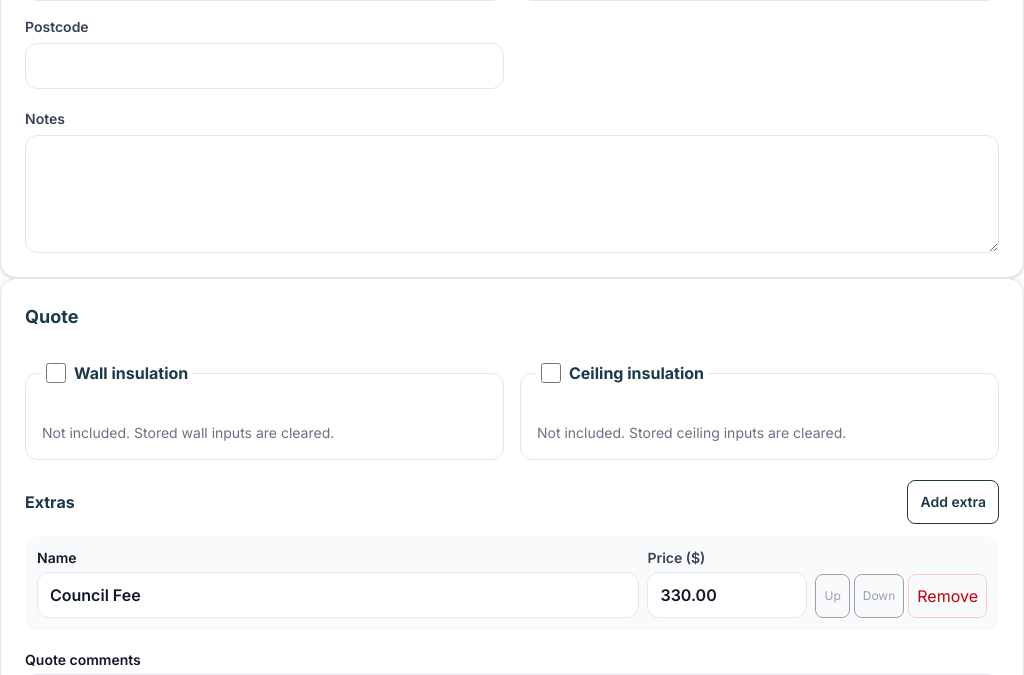
Test: partner draft browser recovery › prefills company rates, allows overrides, and clears products without confirmation
(page scrolled)
Click the checkbox labelled "Wall insulation": click(56, 373) [46,363,66,383]
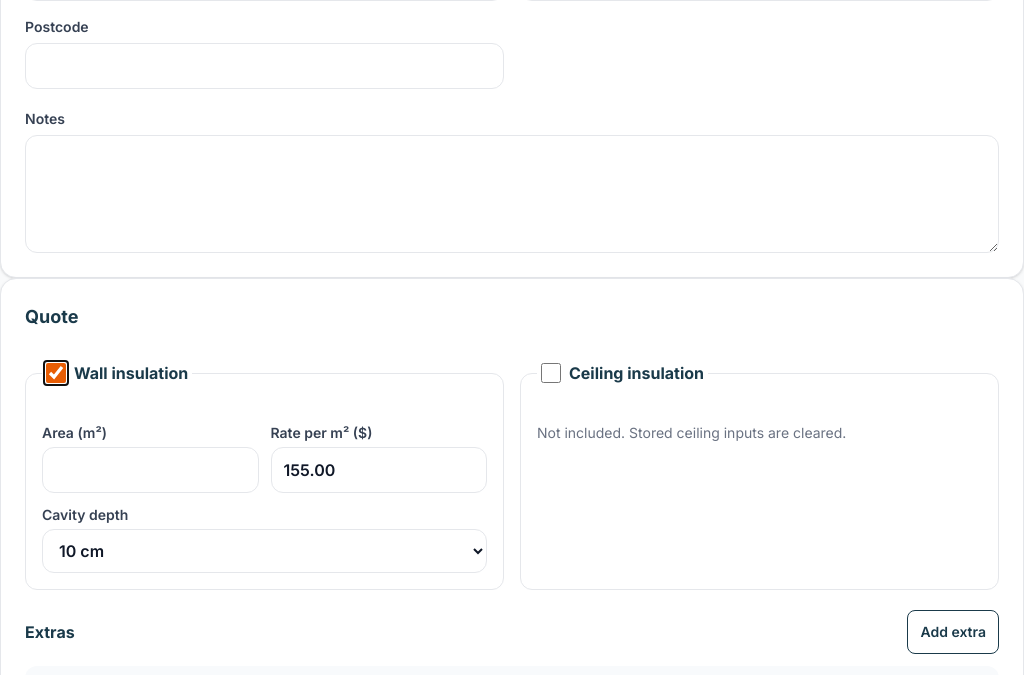
In the number field labelled "Area (m²)": (150, 470) [42,447,258,493], type "10"
Select "10 cm" in the dropdown labelled "Cavity depth": (264, 551) [42,529,487,573]
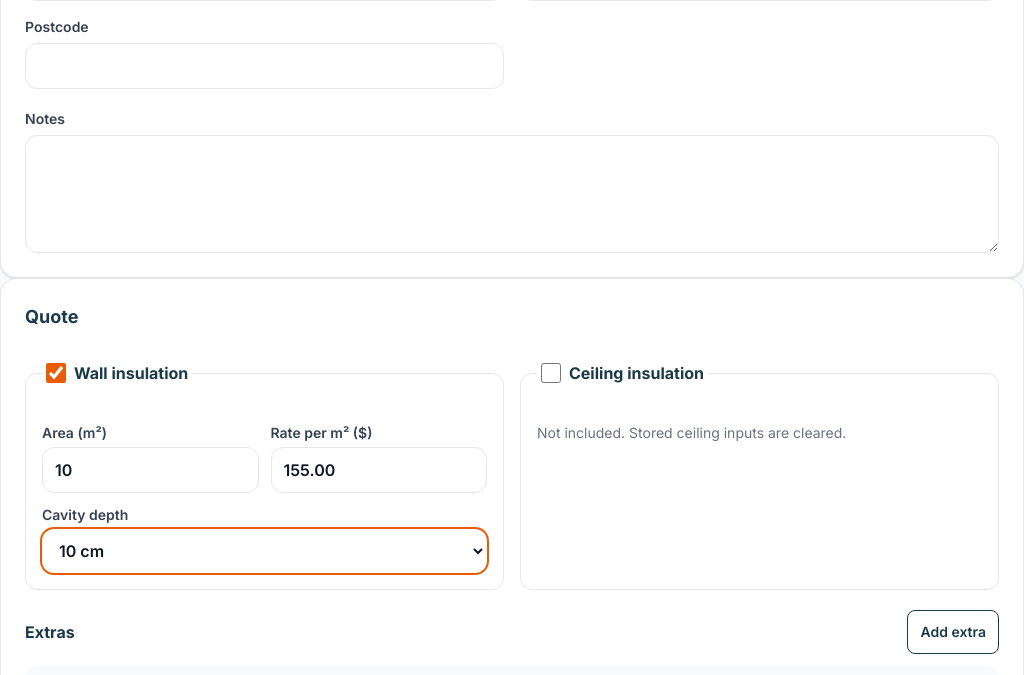
Now the field labelled "Rate per m² ($)" holds "155.00"
Replace the text in the field labelled "Rate per m² ($)" with "160": (379, 470) [270,447,487,493]
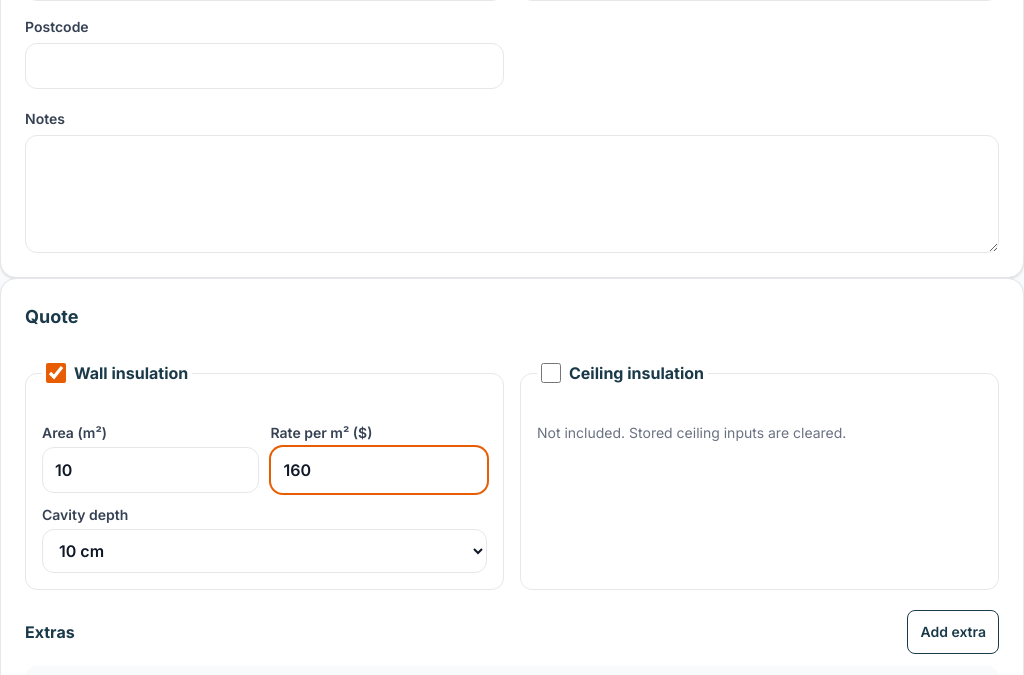
Click the number field labelled "Area (m²)": click(150, 470) [42,447,258,493]
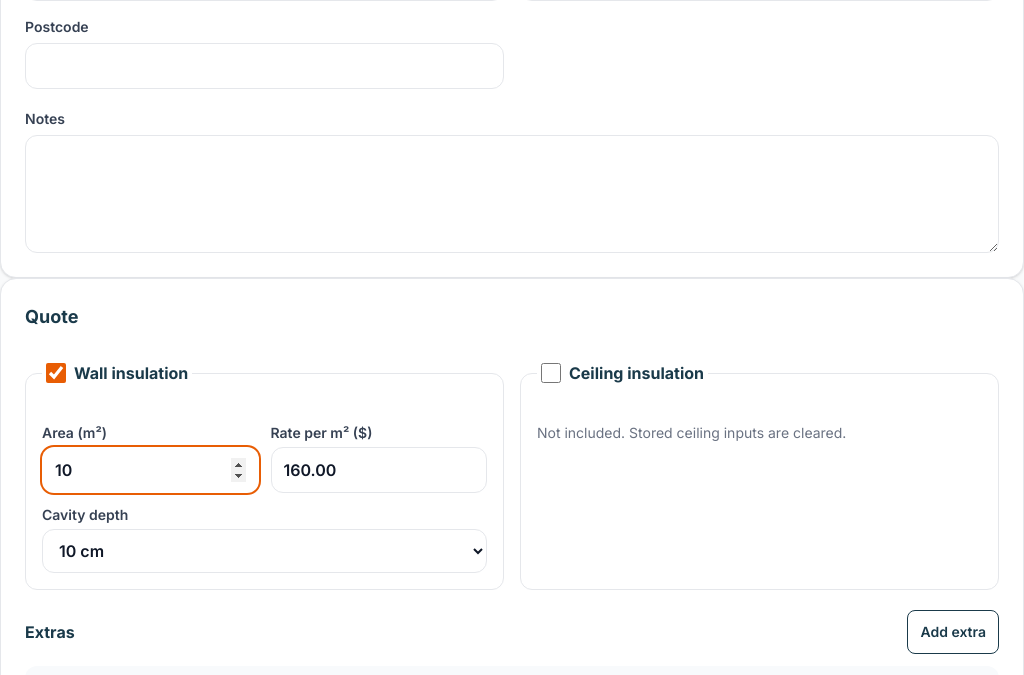
Click the checkbox labelled "Wall insulation": click(56, 373) [46,363,66,383]
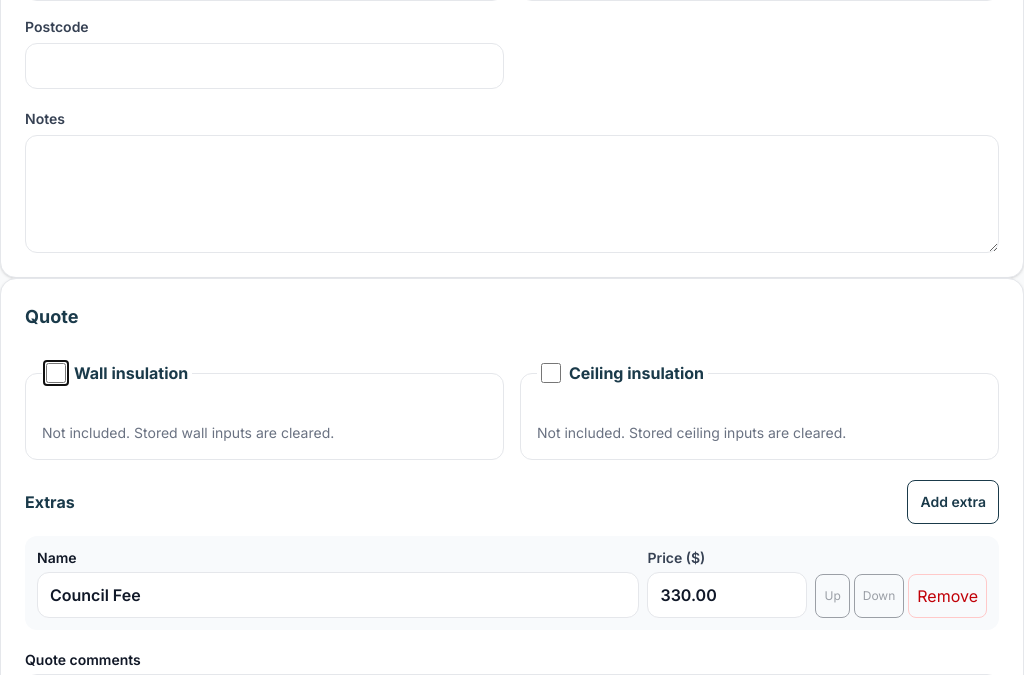
Now the label labelled "Area (m²)" is gone
Click the checkbox labelled "Wall insulation": click(56, 373) [46,363,66,383]
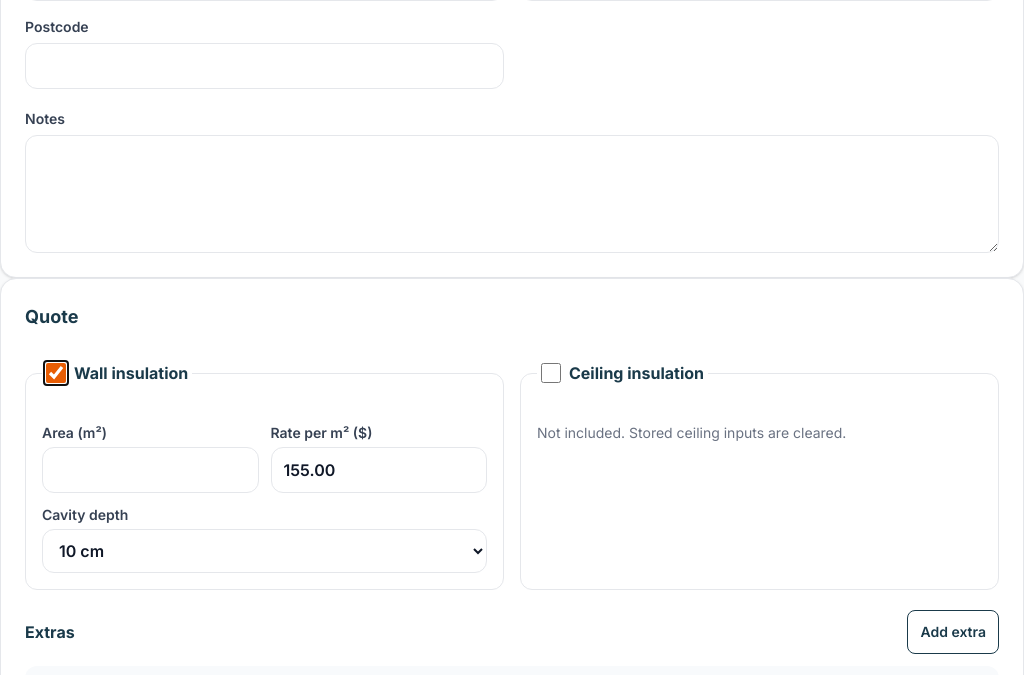
Now the field labelled "Rate per m² ($)" holds "155.00", box [270,447,487,493]
